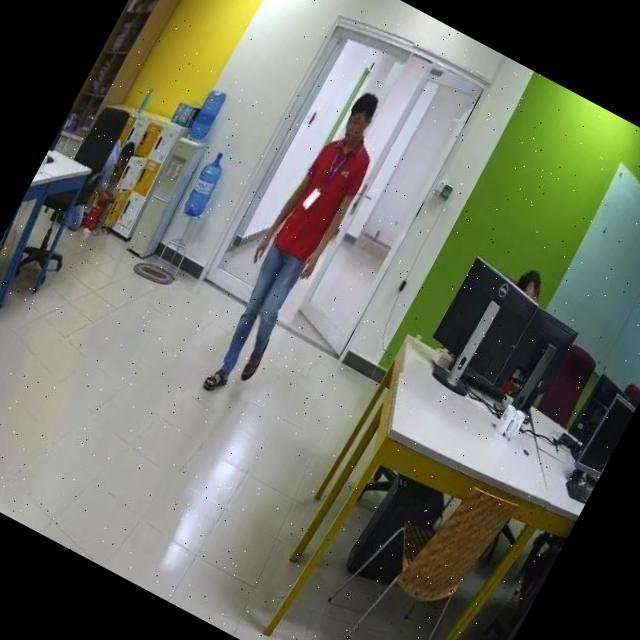person: (190, 82, 406, 416)
